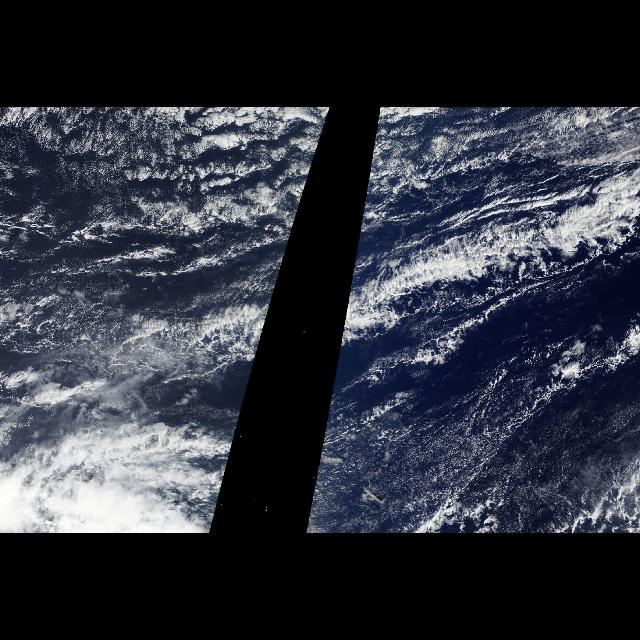Fish: (329, 153, 639, 397), (107, 153, 319, 397)
Sugar: (331, 392, 639, 532), (0, 109, 188, 200)
